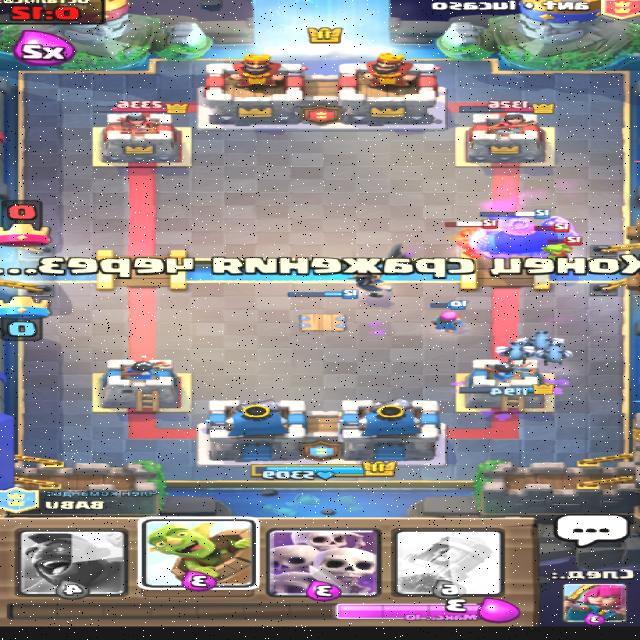Enemy-Goblin: (541, 235, 586, 260)
Enemy-Knight: (445, 218, 500, 256)
Player-Archer: (430, 299, 472, 332)
Player-ElectroWizard: (349, 272, 395, 298)
Player-Minion: (516, 330, 568, 349), (534, 342, 576, 365), (495, 340, 537, 363)
Player-RoyalGiant: (467, 207, 576, 259)
Player-Tesla-Hidden: (287, 288, 360, 332)
